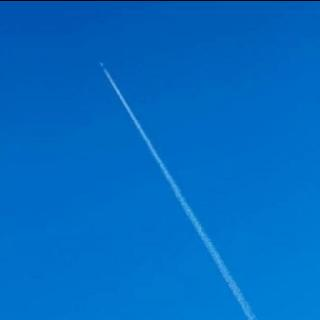Contrails: (97, 66, 266, 320)
